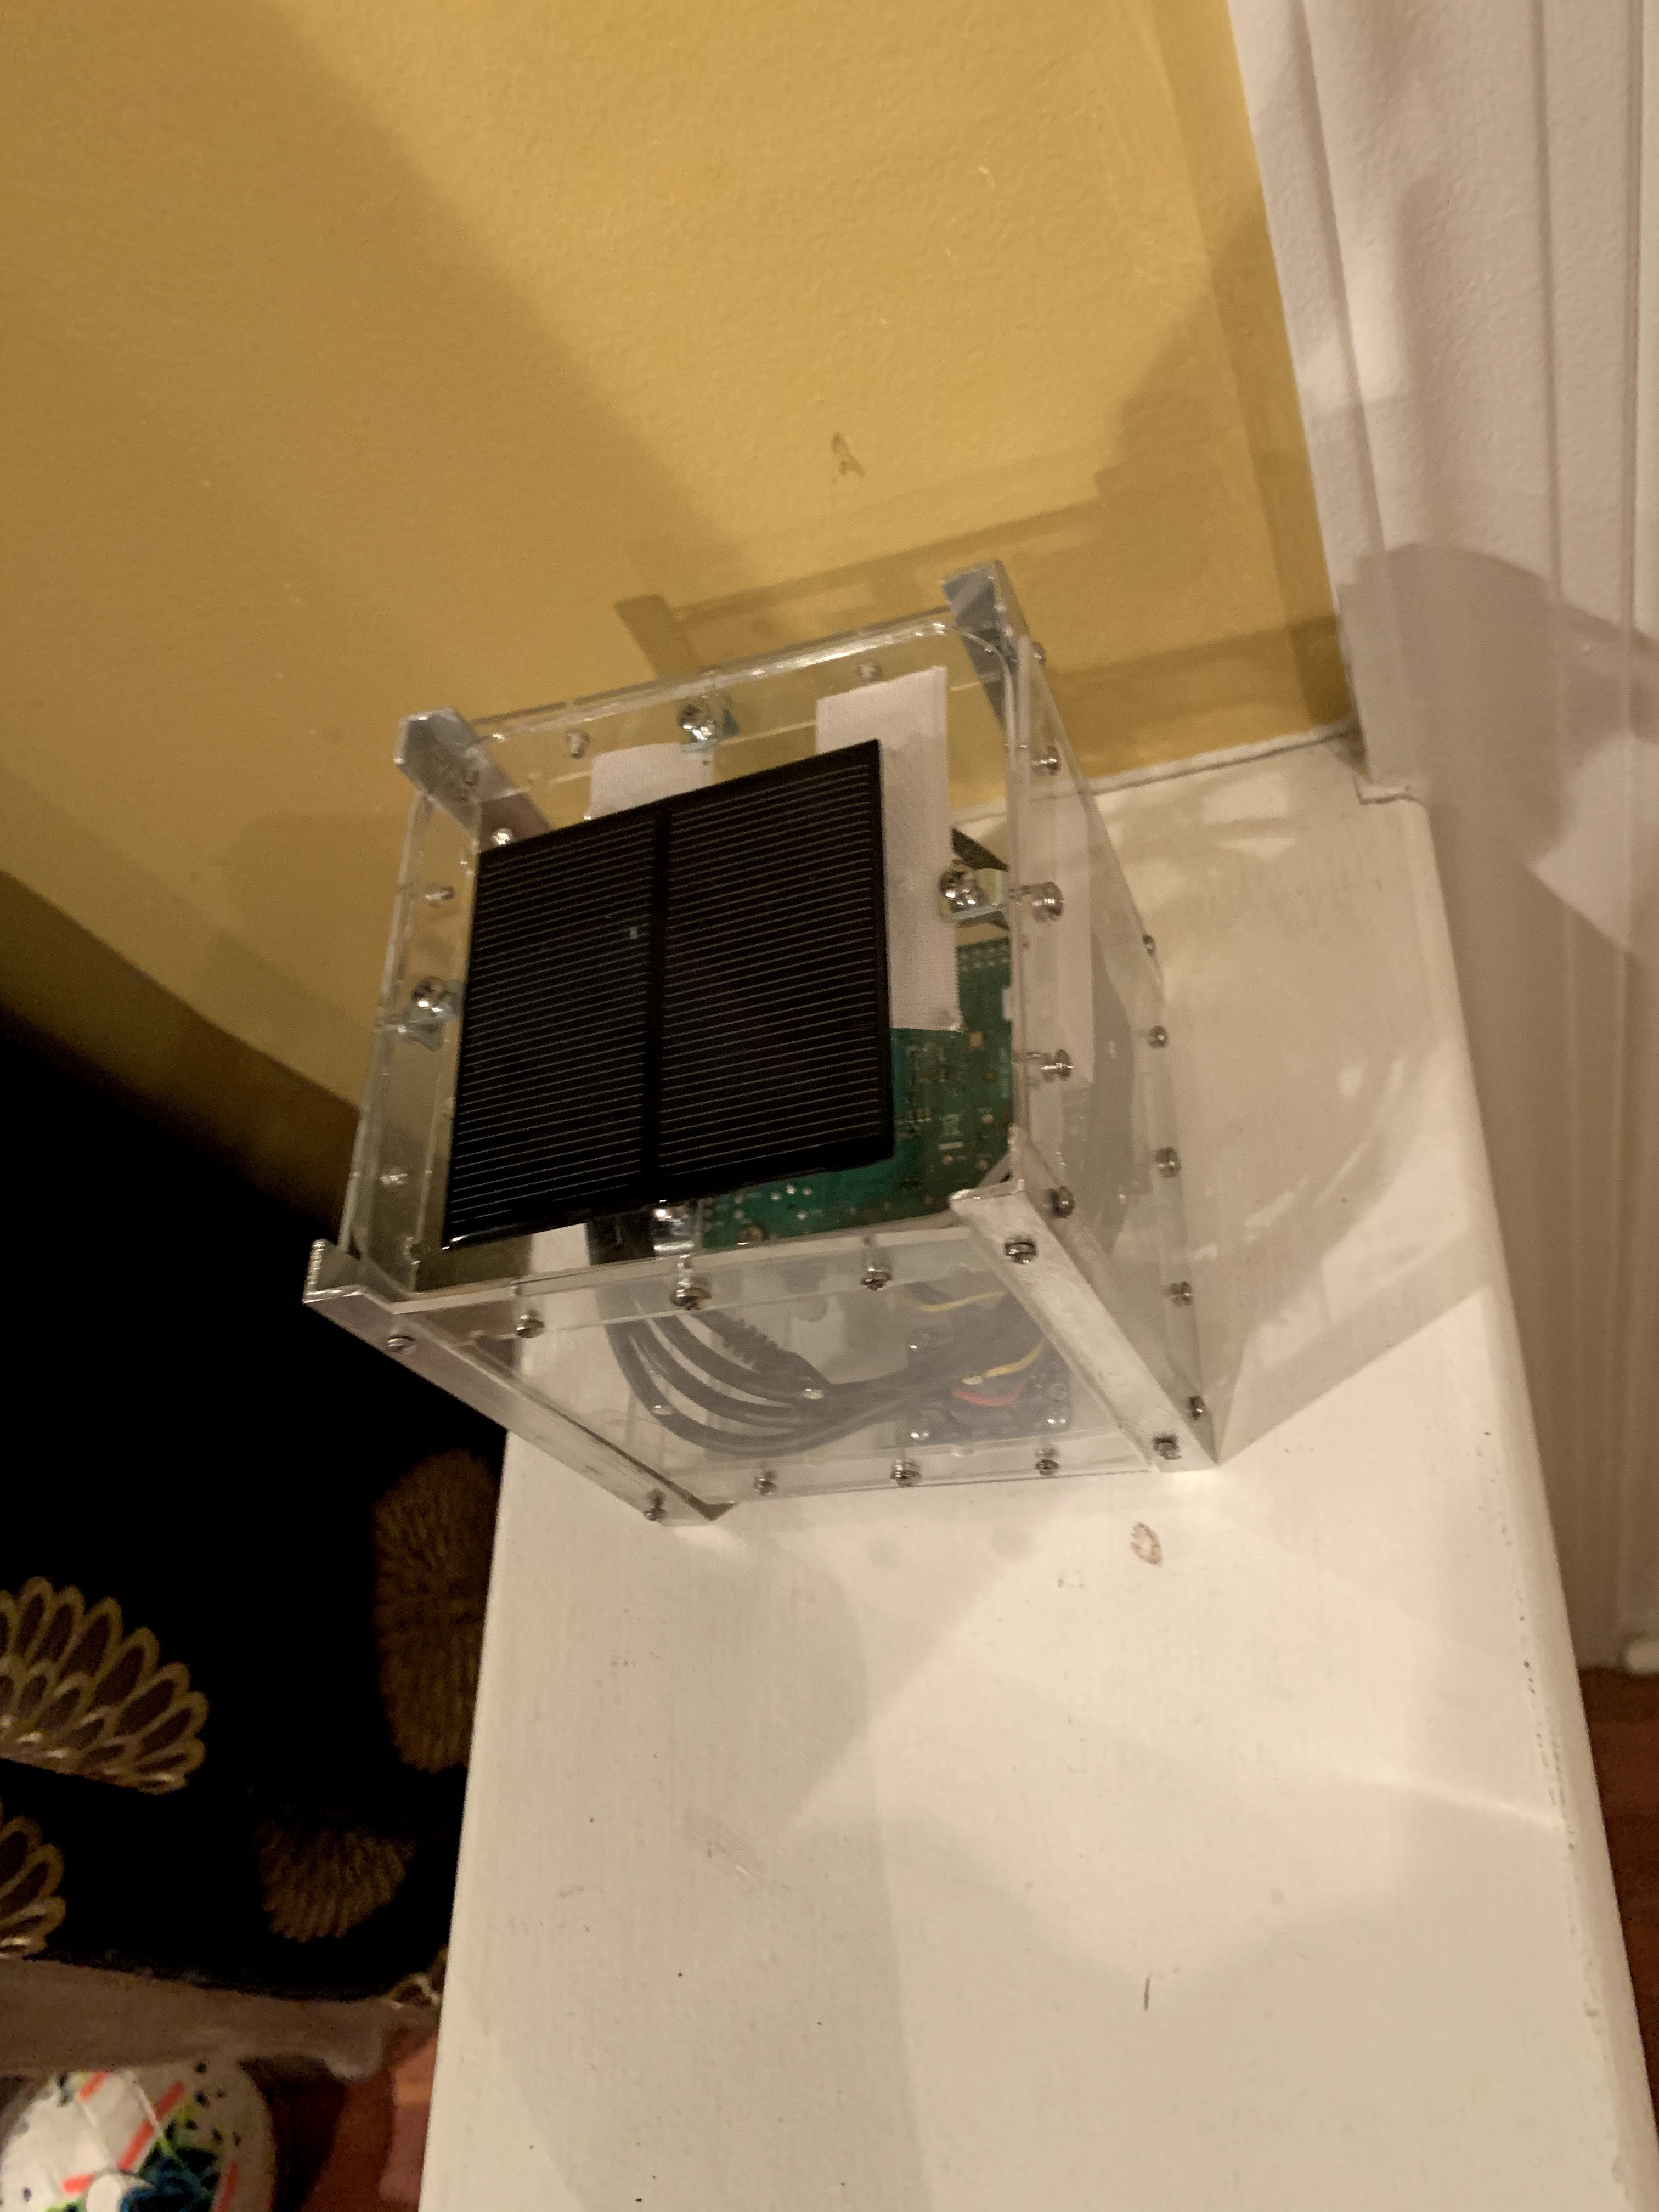Space-debris-cubesat: (275, 556, 1269, 1538)
